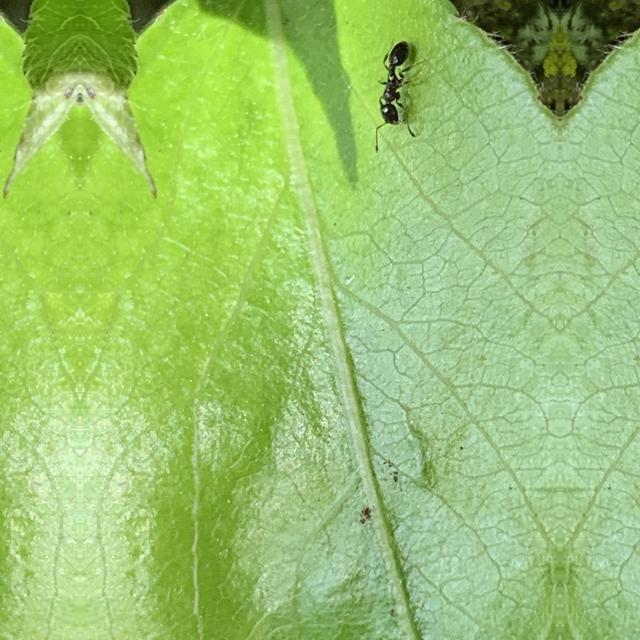Temnothorax: (340, 28, 438, 148)
